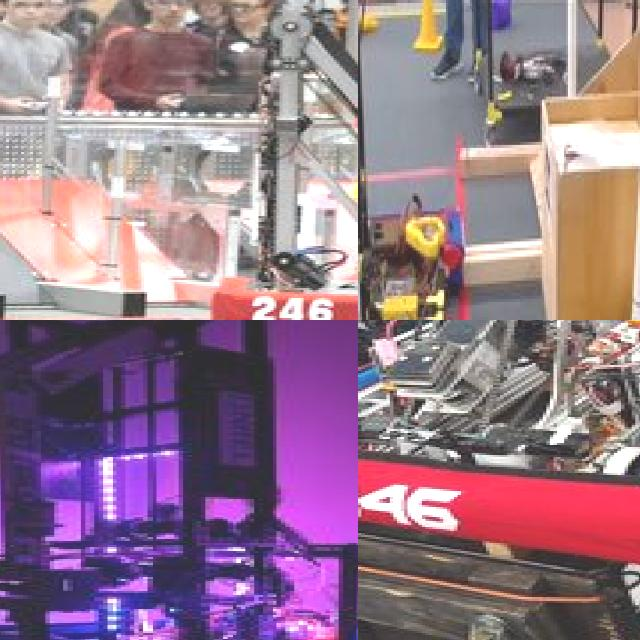FRC-Robots: (0, 320, 358, 640), (358, 0, 640, 320), (358, 320, 640, 574), (180, 0, 358, 320), (162, 154, 358, 320)
